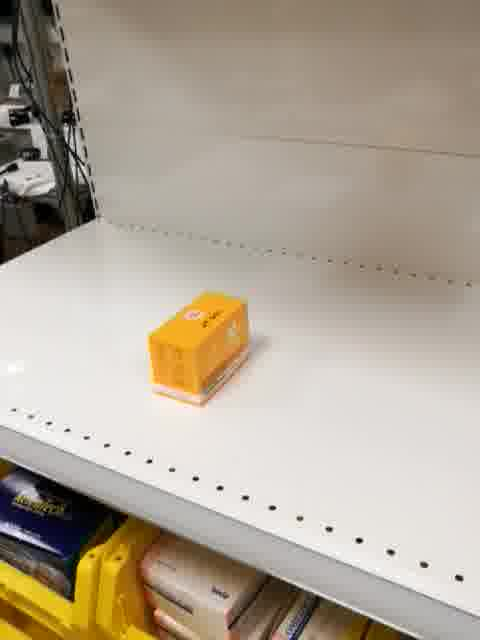jasminetea: (149, 289, 249, 410)
